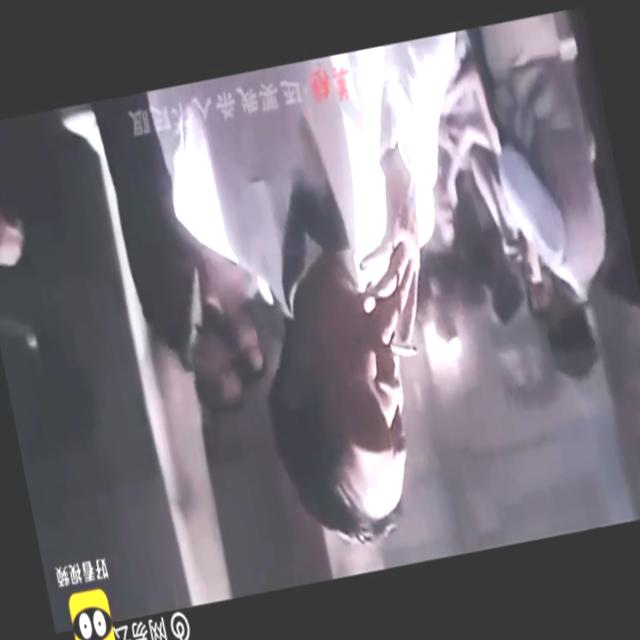cigarette: (384, 327, 426, 364)
